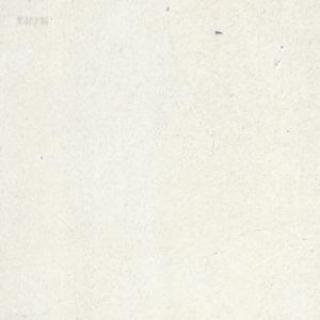Nailtrack_idkeyframe: (214, 28, 222, 34)
